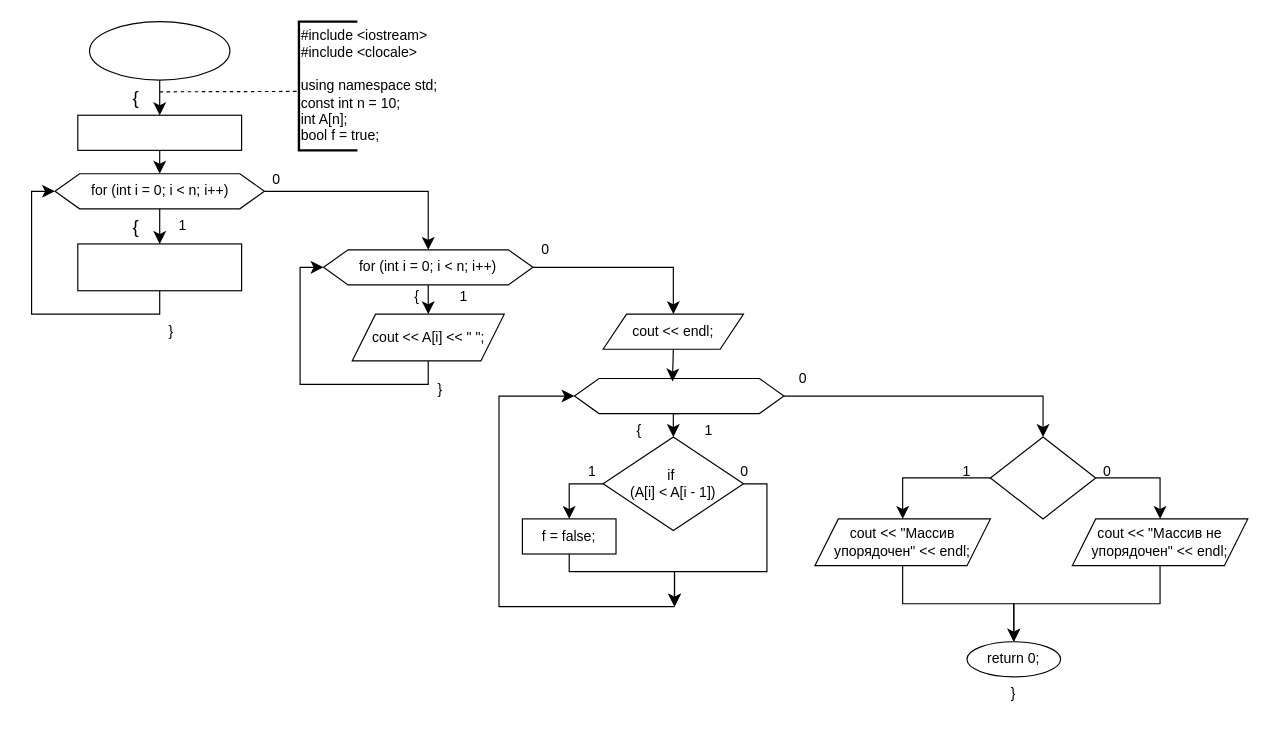
This 1268x731 diagram has some shape labels left out. The centre of each missing label's shape, as x and y in pixels:
A[i] = rand() % 100 - 50;: the point at 159,267
for (int i = 1; i < n && f; i++): the point at 678,395
if (f): the point at 1042,477
int main(): the point at 159,50
setlocale(LC_ALL, "ru");: the point at 159,132
